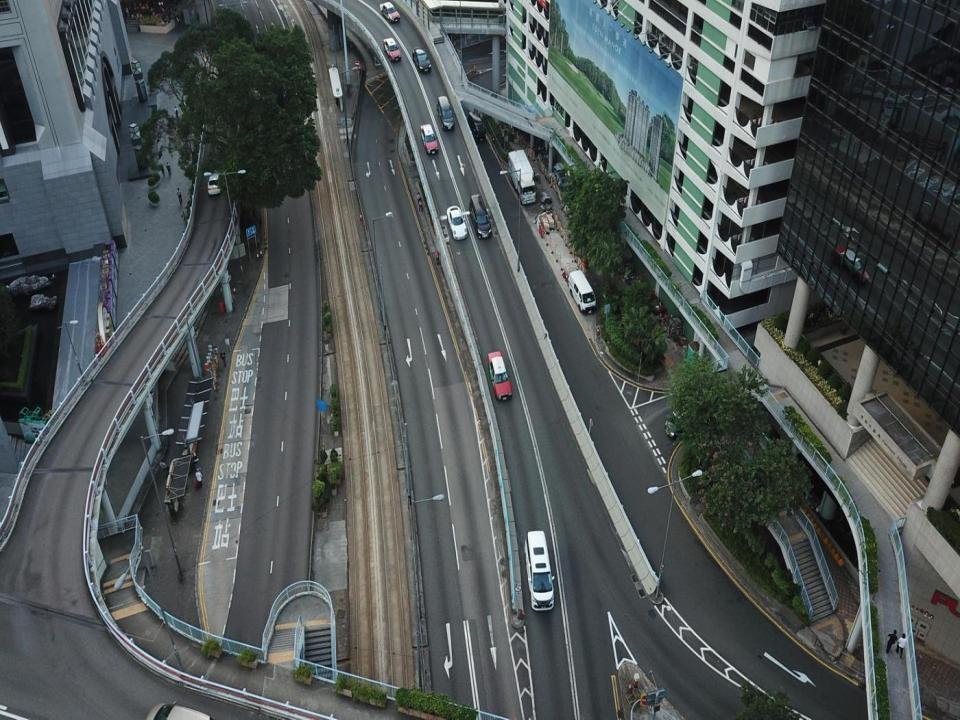car: (665, 412, 711, 440), (488, 350, 511, 400), (446, 206, 467, 240), (420, 124, 438, 156), (412, 46, 432, 72), (383, 37, 401, 61), (207, 167, 222, 194), (380, 2, 400, 22)
truck: (508, 149, 536, 205), (468, 112, 486, 142)
van: (524, 531, 555, 611), (568, 268, 596, 313), (468, 194, 492, 238), (437, 96, 454, 131)
